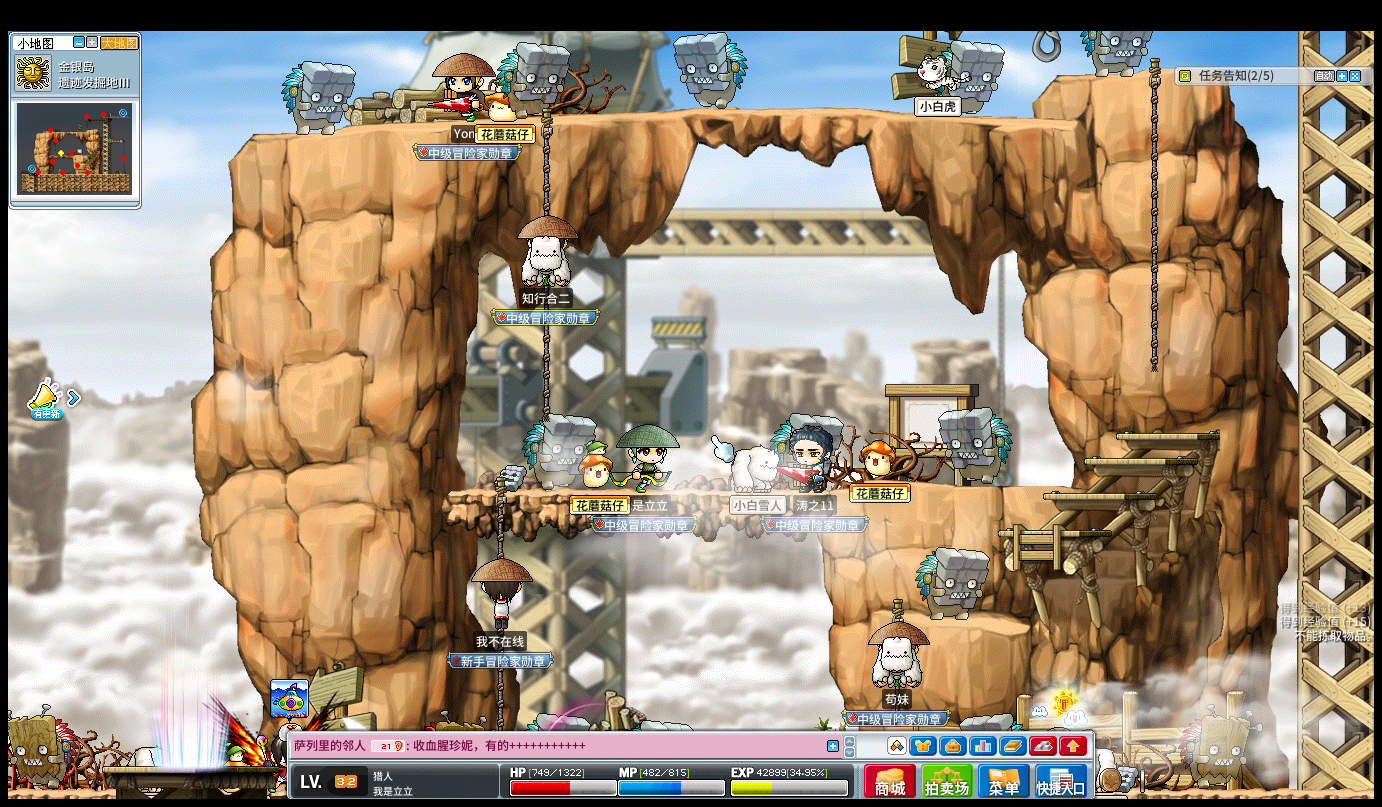floor: (237, 103, 1096, 137), (447, 486, 827, 498), (916, 613, 1030, 634), (873, 482, 1073, 493), (1053, 69, 1167, 83), (1114, 429, 1221, 441), (1077, 455, 1194, 464), (1041, 492, 1154, 500), (996, 528, 1108, 536)
monster: (3, 707, 78, 791), (1181, 707, 1257, 789), (671, 29, 748, 109), (279, 59, 356, 136), (939, 407, 1013, 486), (914, 546, 988, 622), (521, 413, 593, 490), (498, 40, 567, 117), (948, 40, 1005, 117), (1083, 28, 1147, 78)
rope: (1146, 55, 1160, 377), (541, 107, 552, 215), (540, 321, 551, 420), (492, 482, 505, 559), (492, 669, 503, 725), (494, 667, 504, 720)
